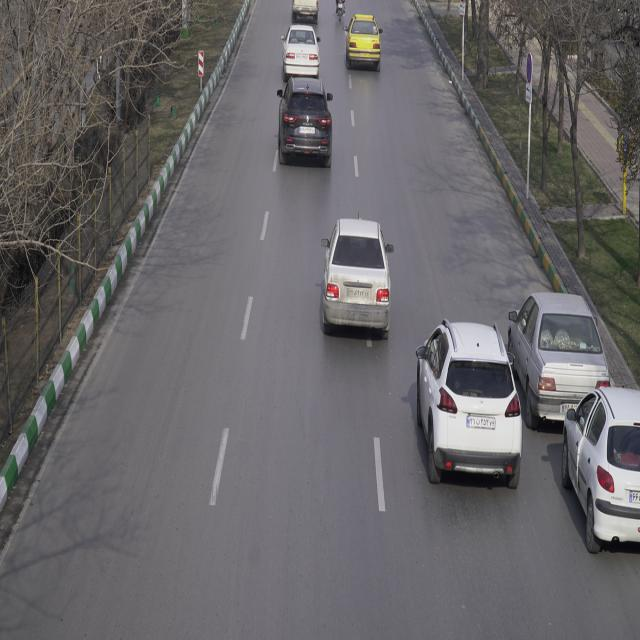car: (416, 318, 524, 481), (508, 290, 609, 432), (562, 386, 640, 554), (319, 220, 397, 335), (275, 75, 333, 165), (342, 15, 382, 69), (279, 24, 323, 71)
